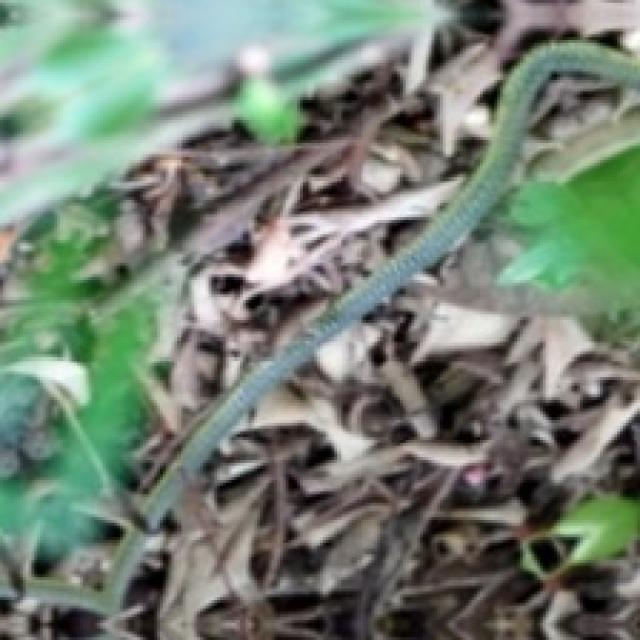paradise tree snake: (0, 0, 637, 637), (137, 40, 637, 529)
